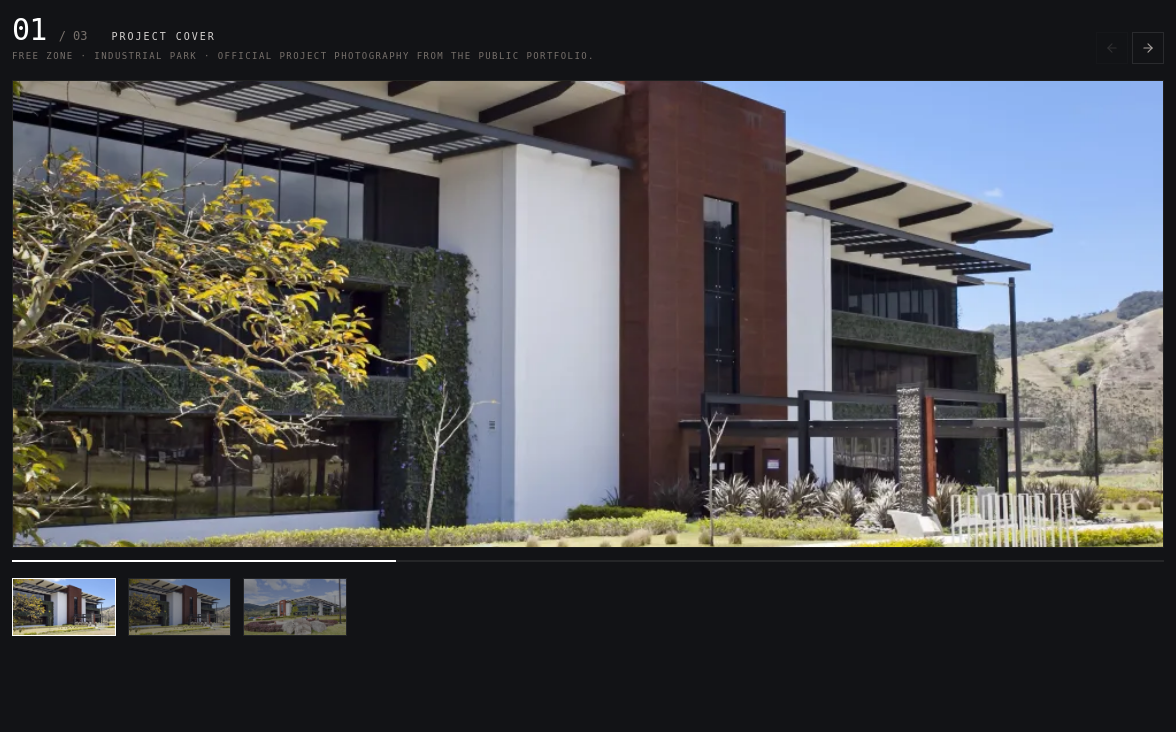
Test: ARCH_TECH SpatialRail showcase media › supports bounded controls and keyboard navigation
Expected: the button with test id "rail-prev-btn" is disabled, x1=1096 y1=32 x2=1128 y2=64
Press ArrowRight in the element with test id "spatial-rail"
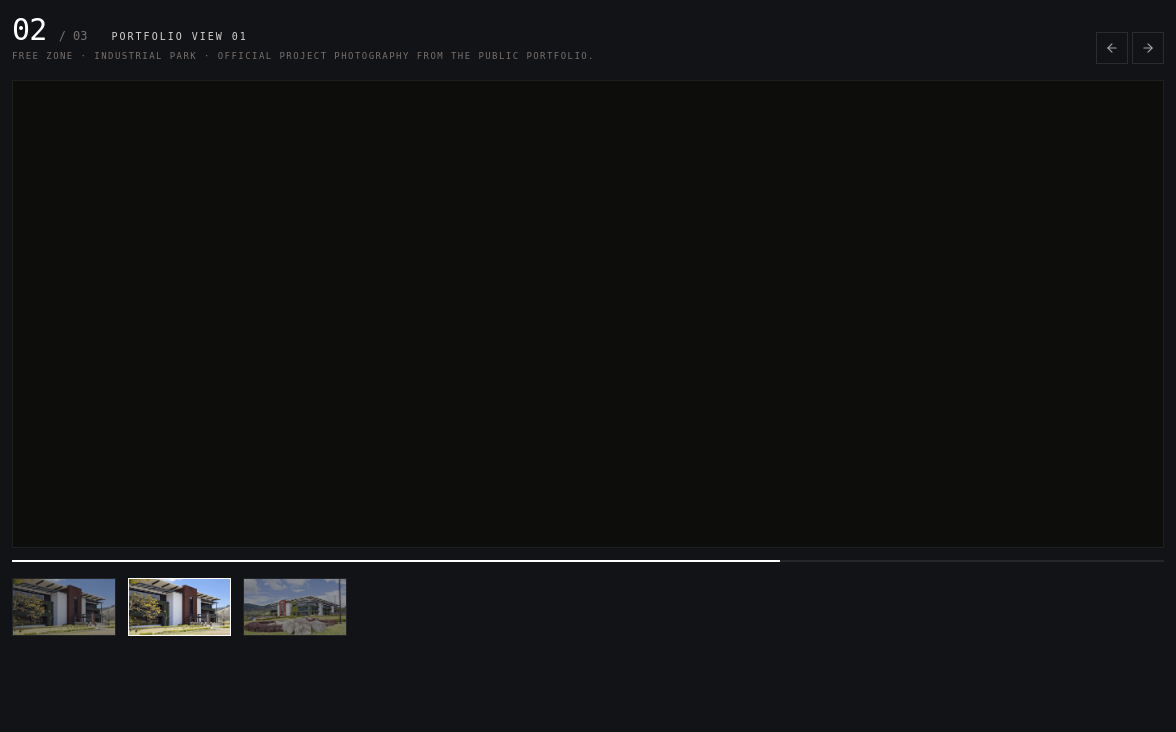
Expected: the text with test id "rail-index" reads "02", x1=12 y1=12 x2=47 y2=47
Click the button with test id "rail-next-btn".
click(1148, 48)  # box x1=1132 y1=32 x2=1164 y2=64
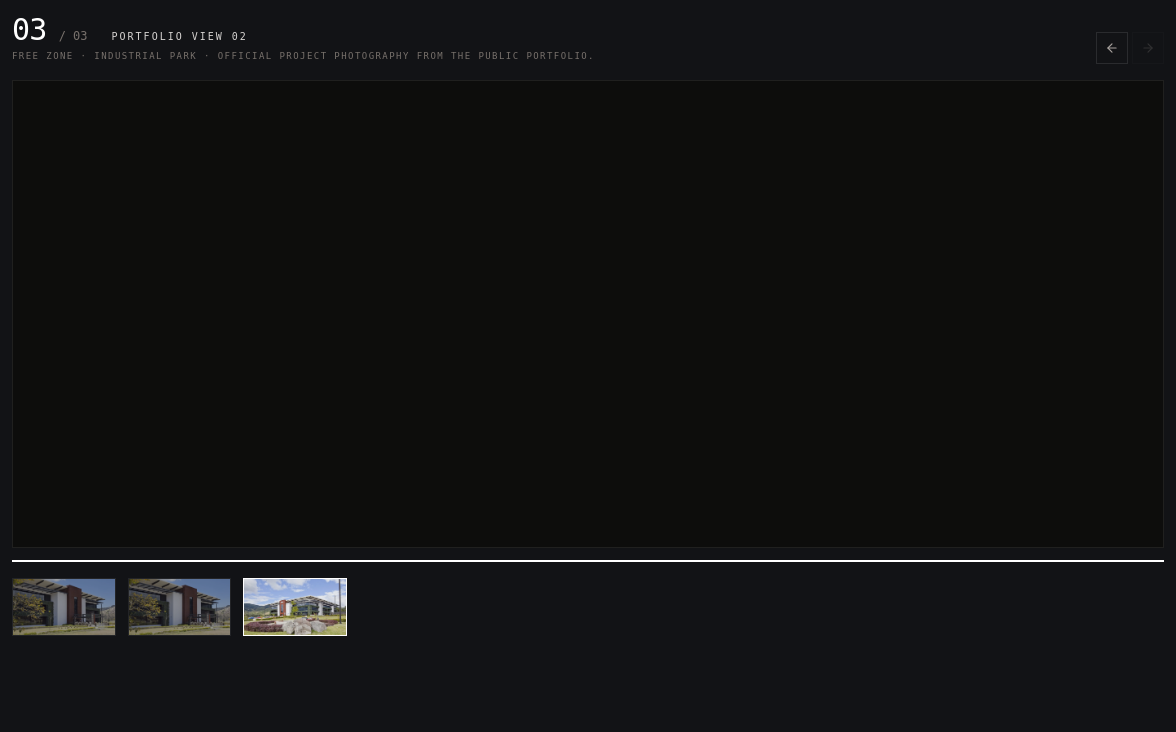
Expected: the text with test id "rail-index" reads "03", x1=12 y1=12 x2=47 y2=47
Expected: the button with test id "rail-next-btn" is disabled, x1=1132 y1=32 x2=1164 y2=64
Click the button with test id "rail-prev-btn".
click(1112, 48)  # box x1=1096 y1=32 x2=1128 y2=64
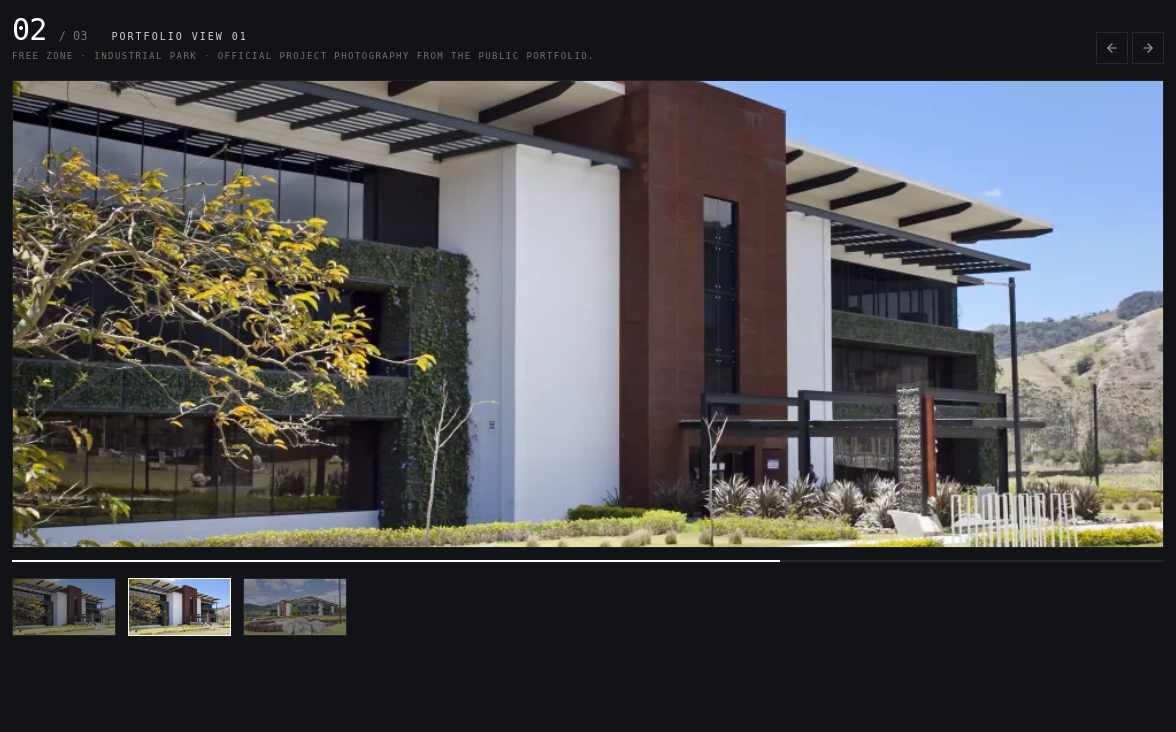
Expected: the text with test id "rail-index" reads "02", x1=12 y1=12 x2=47 y2=47
